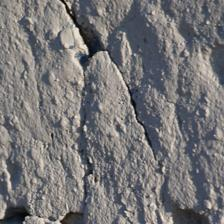Crack: (0, 0, 127, 104), (8, 39, 96, 119)
